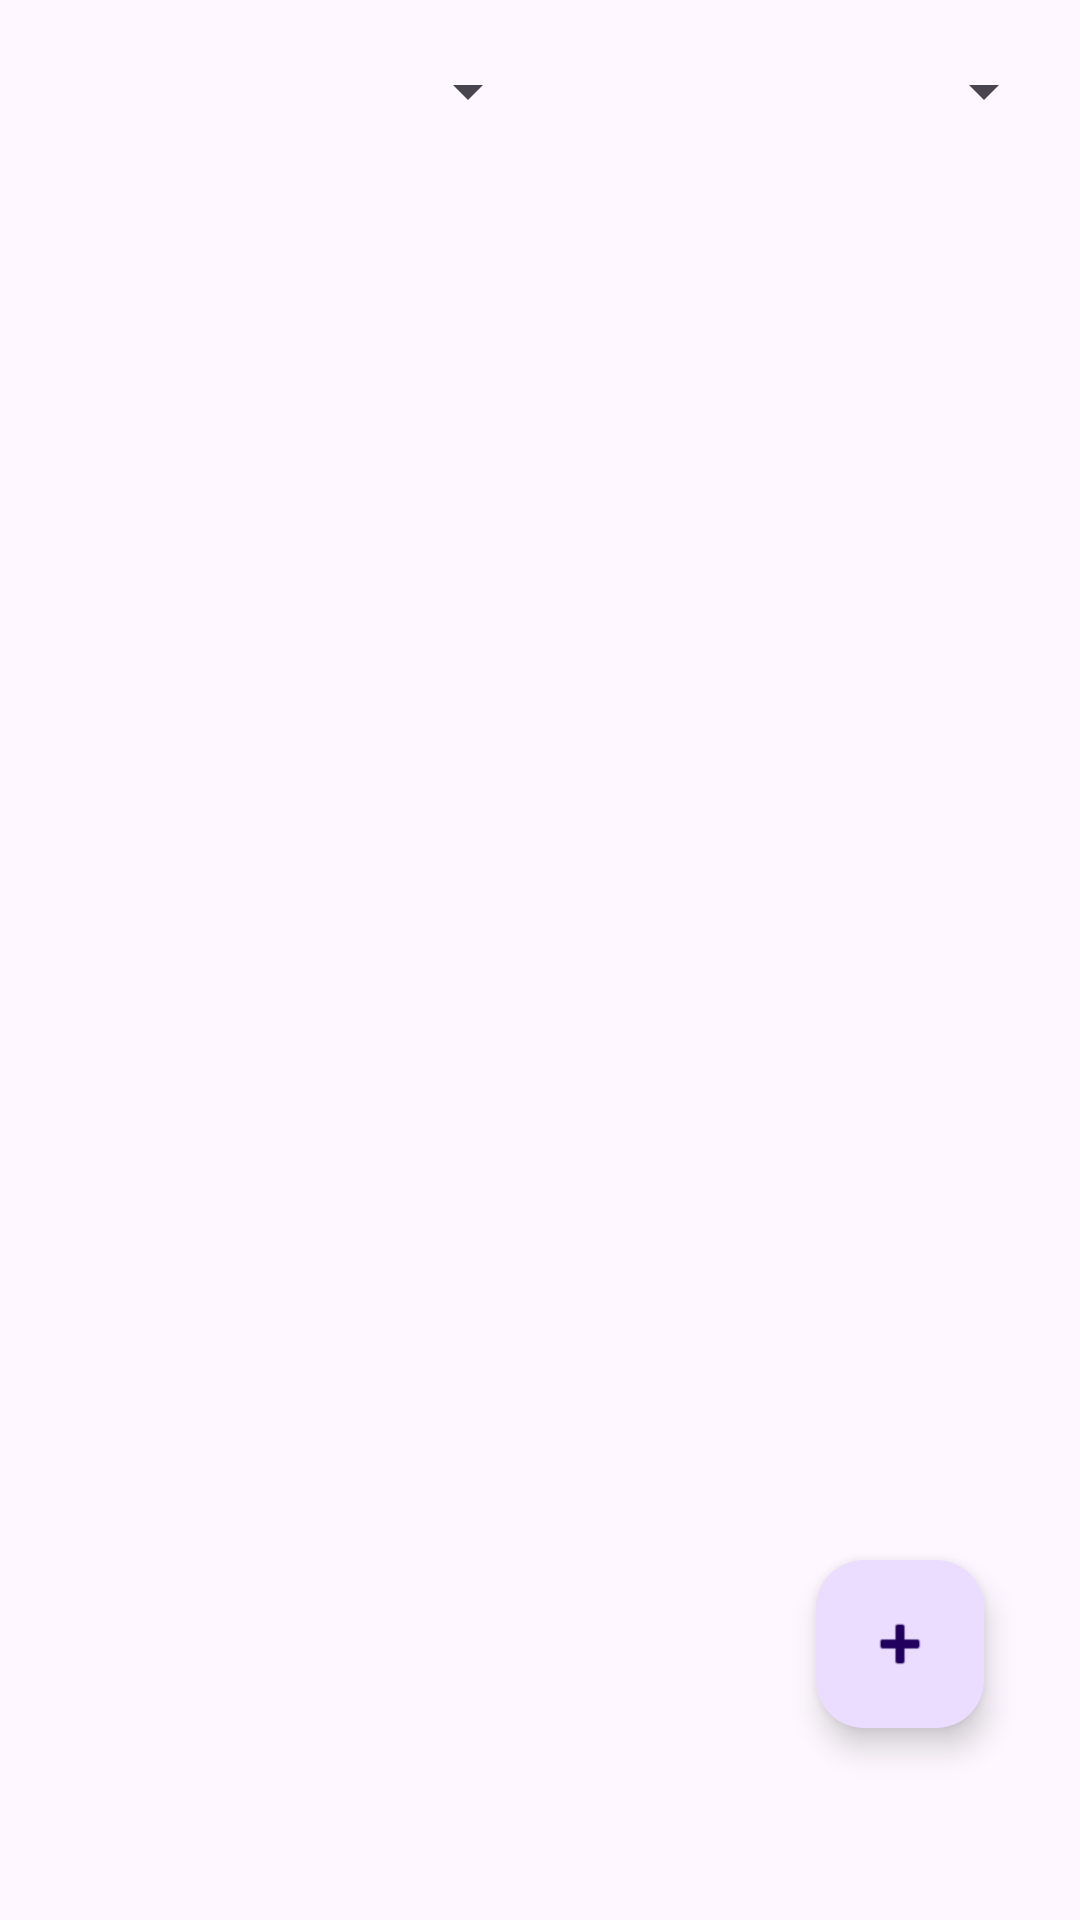

Screen size 1080w x 1920h. Icon name, then its box in pixels as (x1=x1, y1=y1, x2=x2, y2=y2):
Add product: (x1=816, y1=1560, x2=984, y2=1728)
